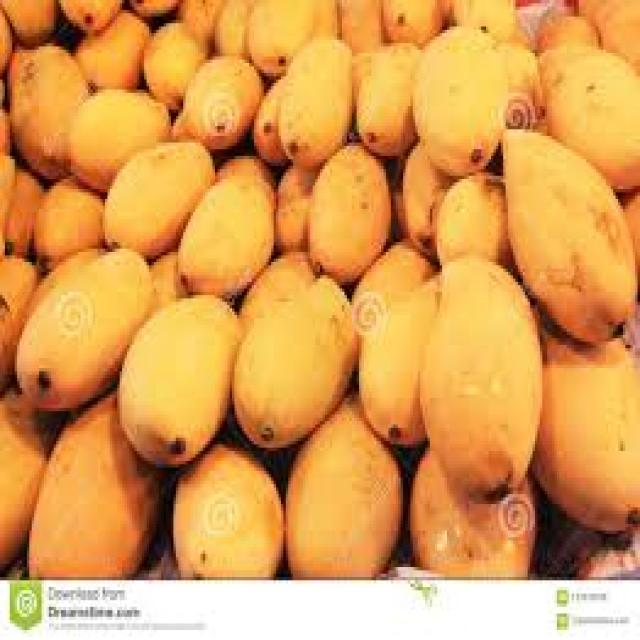mango: (117, 295, 244, 471)
